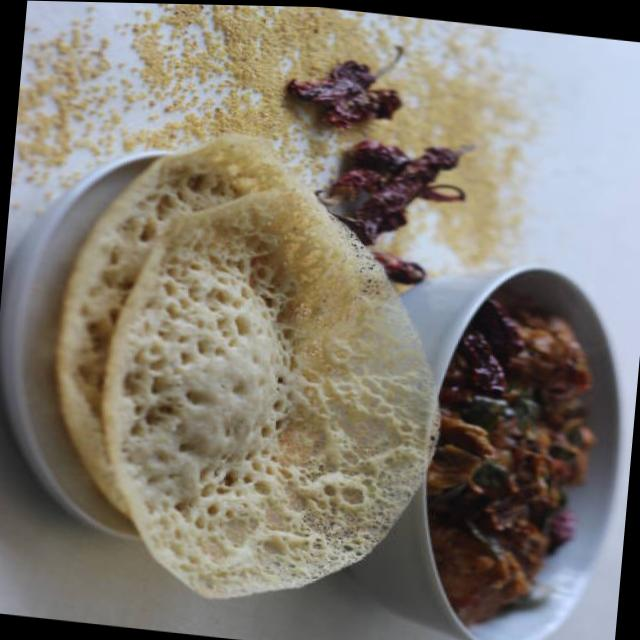AAPAM: (0, 130, 453, 640)
CURRY: (430, 261, 640, 640)
